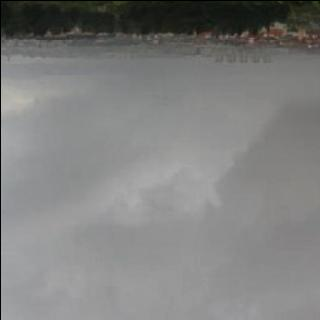Nimbostratus: (0, 58, 320, 320)
